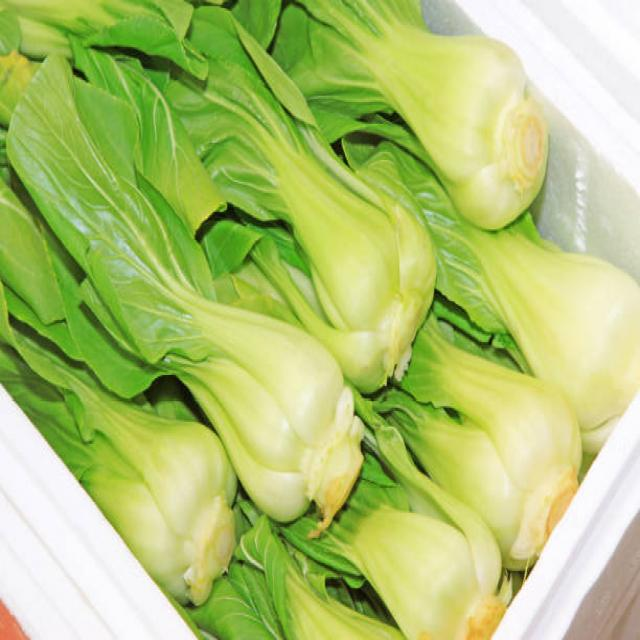Bok Choy: (114, 172, 364, 480), (378, 5, 545, 274), (61, 364, 216, 578), (441, 339, 576, 525), (376, 488, 493, 640)
